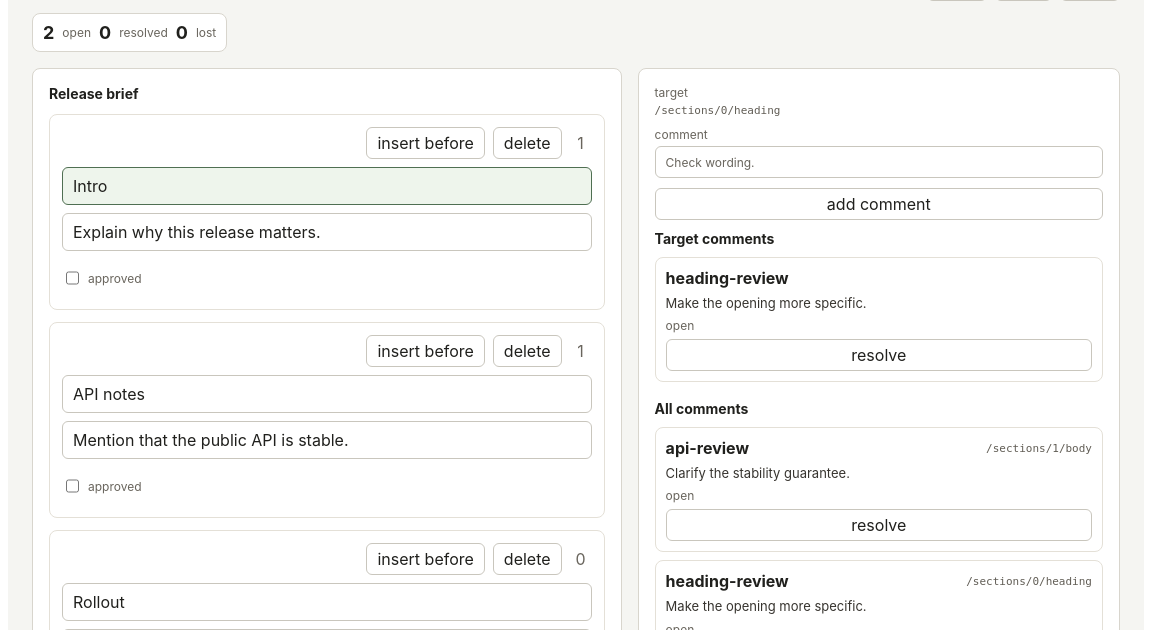
Test case: review comments lab dogfood › adds a comment to the selected target through the extension
Click the button with aria-label "select /sections/1/body": (327, 440) x1=62 y1=421 x2=592 y2=459
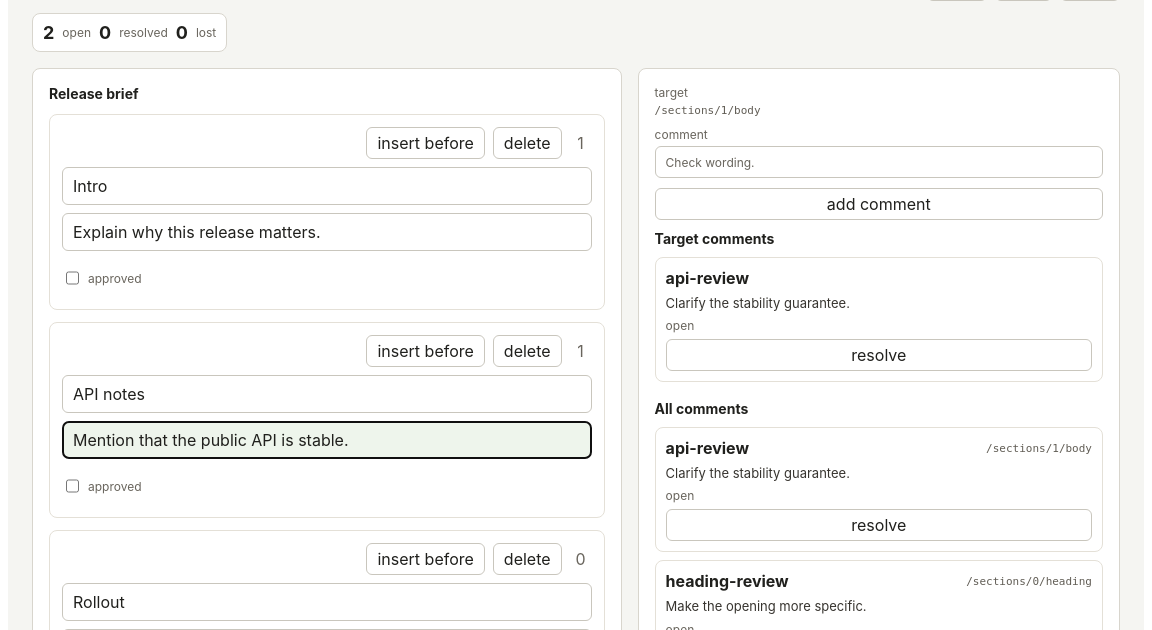
Replace the text in the field named "comment text" with "Add migration note.": (879, 162) x1=655 y1=146 x2=1103 y2=178
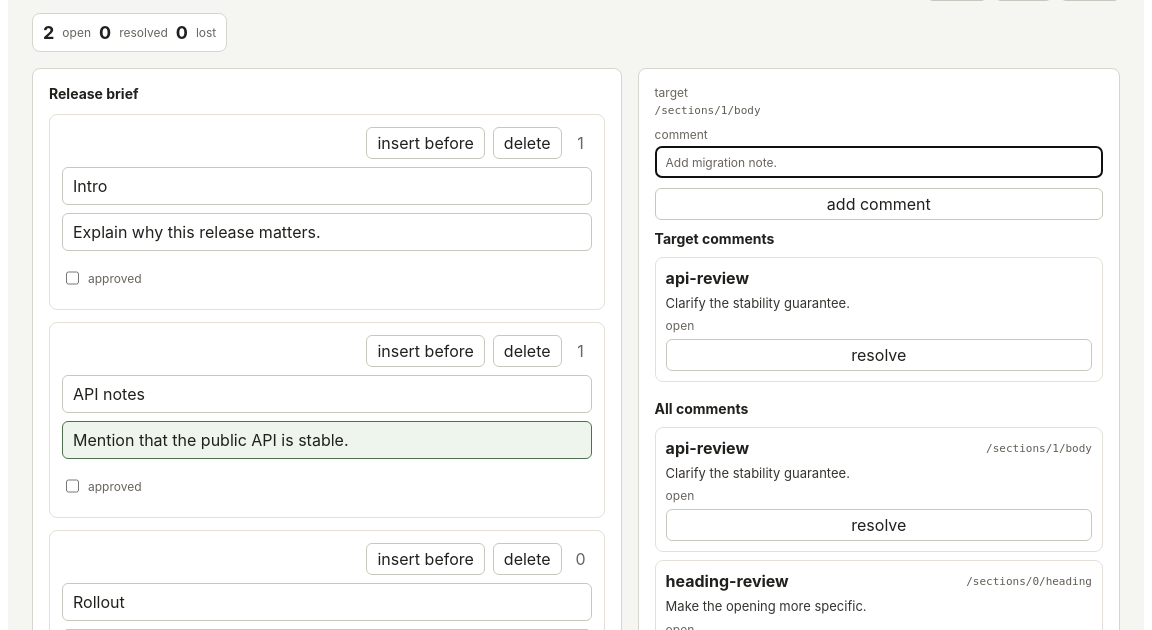
Click the button "add comment": (879, 204) x1=655 y1=188 x2=1103 y2=220
(page scrolled)
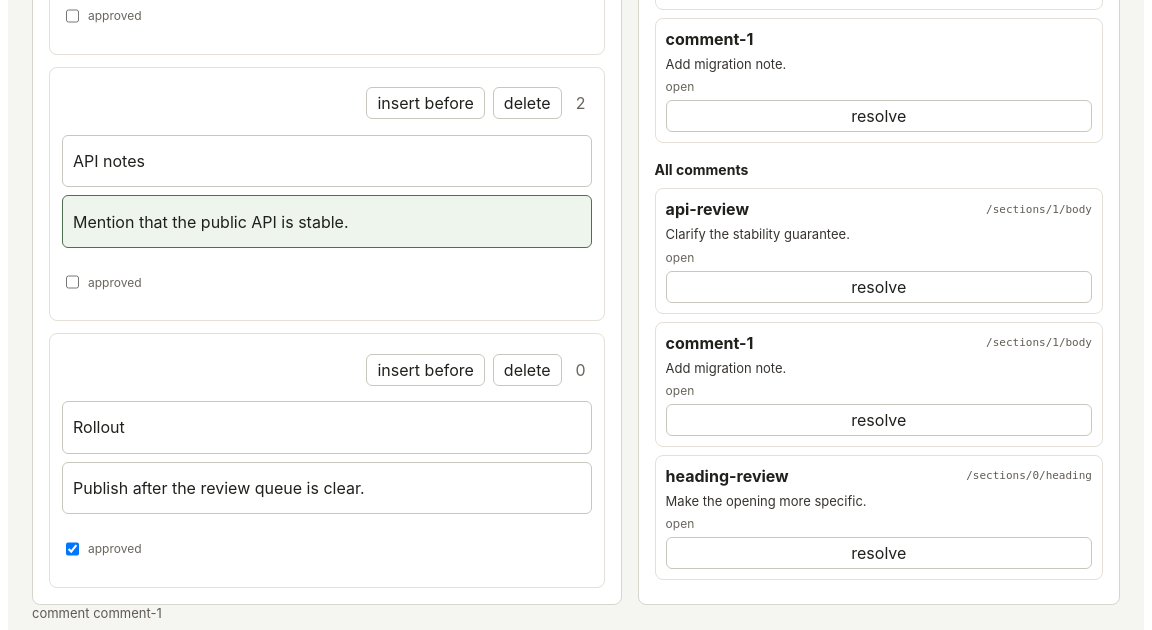
Expected: the 1st text "/sections/1/body" is shown, x1=986 y1=203 x2=1092 y2=216
Expected: the 2nd text "comment-1" is shown, x1=666 y1=333 x2=754 y2=353
Expected: the message reads "comment comment-1", x1=32 y1=605 x2=162 y2=621
